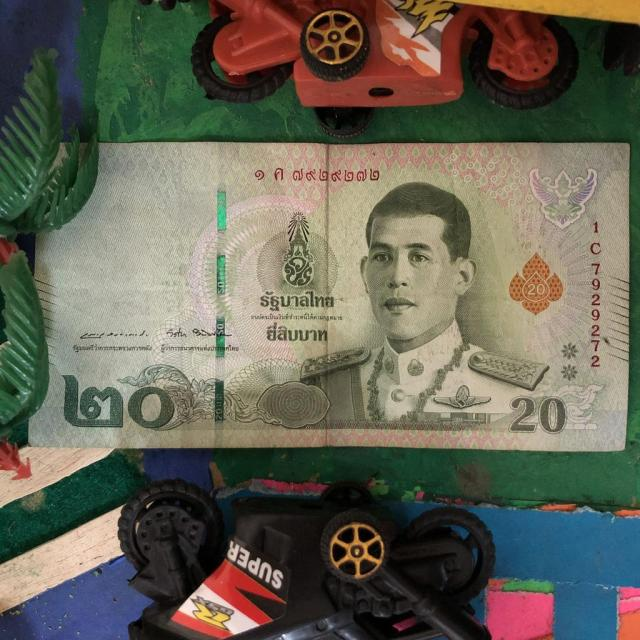THAI20: (29, 143, 629, 451)
